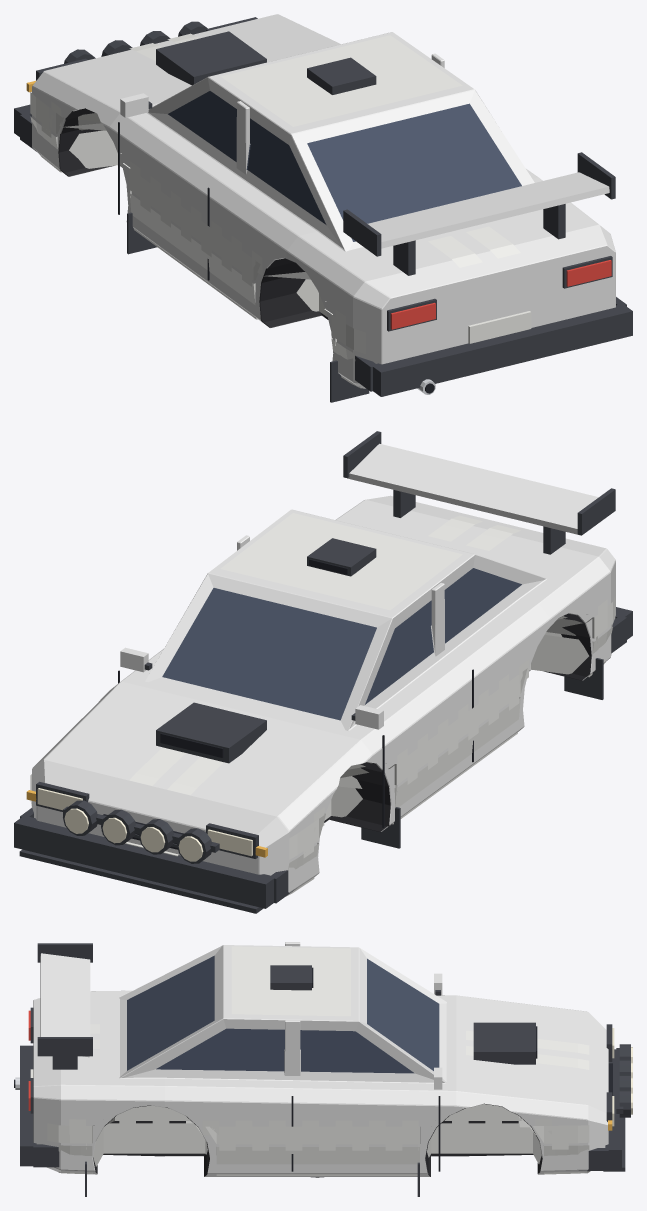
File: sora_gt.glb
3 views of the same model, one above another, from view 1: azimuth 30°, elevation 25°; view 2: azimuth 150°, elevation 25°; view 3: azimuth 270°, elevation 25° (orthographic). The views are drawn at different scales.
Visible parts, largest first — view 1: Body, Details, Pattern_TWO_TONE, Pattern_SIDE_BAND, Pattern_CHECKER, Pattern_STRIPE; view 2: Body, Details, Pattern_TWO_TONE, Pattern_STRIPE, Pattern_SIDE_BAND, Pattern_CHECKER; view 3: Body, Pattern_TWO_TONE, Details, Pattern_SIDE_BAND, Pattern_CHECKER, Pattern_STRIPE.
Part boxes in pixels (x1,y1,x2,y2): Body: (32,14,615,388); Details: (14,17,632,402); Pattern_TWO_TONE: (30,35,462,388); Pattern_SIDE_BAND: (30,92,365,353); Pattern_CHECKER: (41,101,345,345); Pattern_STRIPE: (129,33,520,267); Body: (32,495,615,892); Details: (14,431,632,913); Pattern_TWO_TONE: (30,513,612,896); Pattern_STRIPE: (129,515,520,795); Pattern_SIDE_BAND: (30,596,615,859); Pattern_CHECKER: (303,599,607,857); Body: (33,942,608,1176); Pattern_TWO_TONE: (58,946,589,1175); Details: (14,943,632,1196); Pattern_SIDE_BAND: (47,1104,589,1144); Pattern_CHECKER: (69,1104,568,1150); Pattern_STRIPE: (90,968,589,1069).
Bounding box in the file's own units: 1.86 × 1.51 × 4.47.
